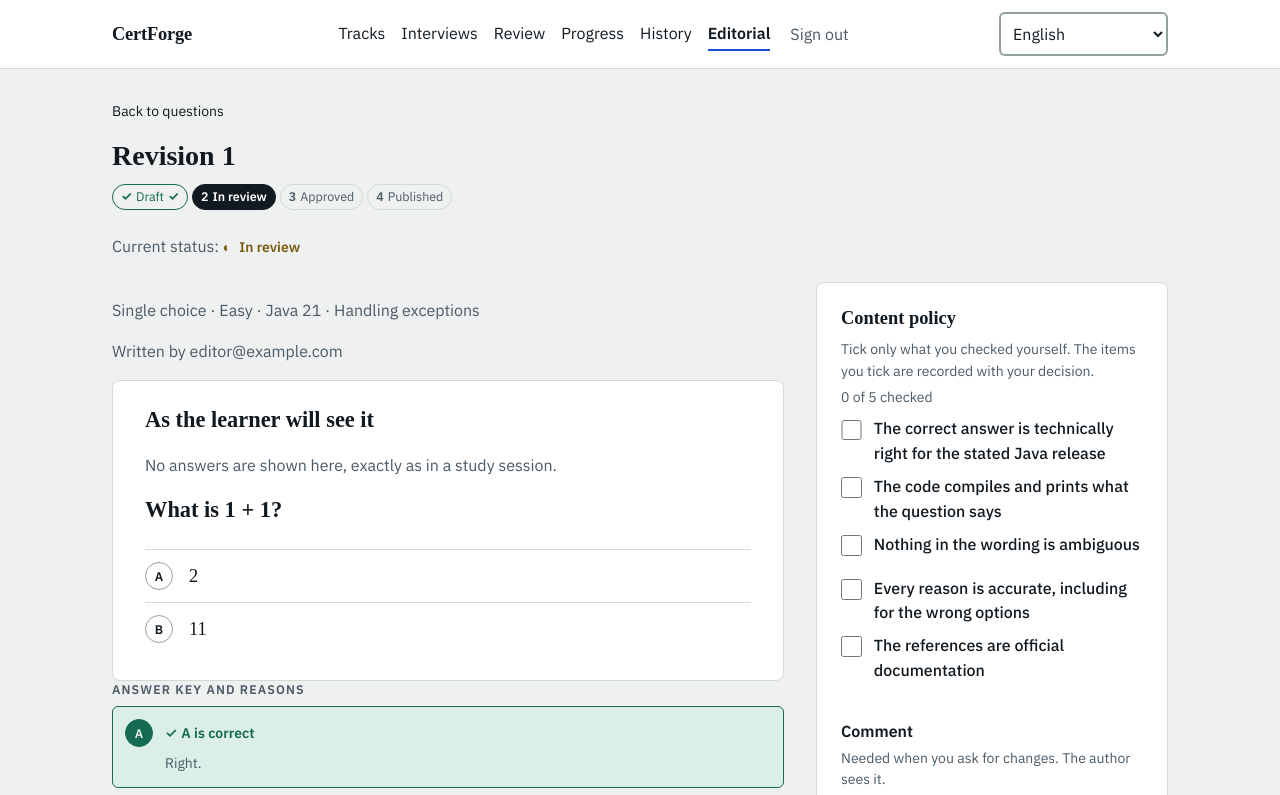
Test: reviewing › records exactly the items the reviewer ticked, with the decision
This screenshot has width=1280, height=795.
Click the checkbox labelled "technically right": (851, 430) [841,420,862,440]
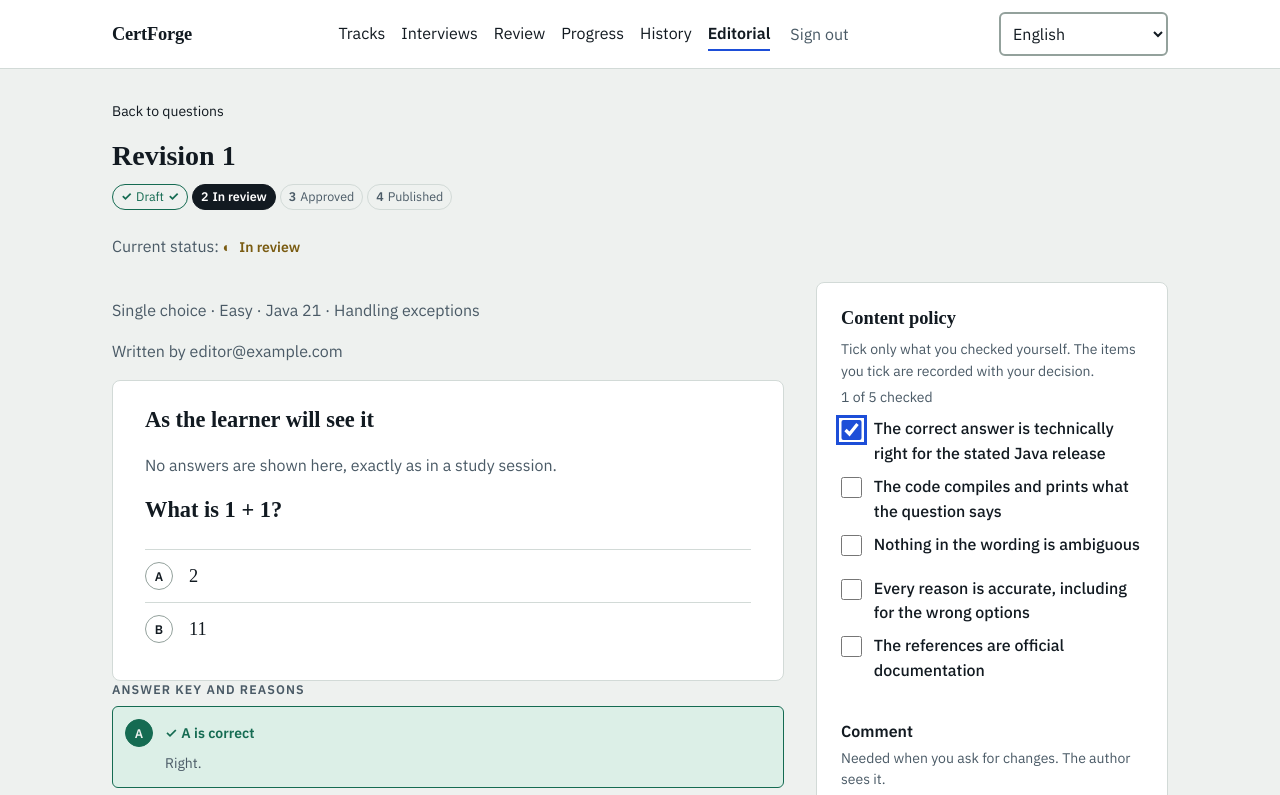
Result: the text "1 of 5 checked" is shown at [841,388,933,406]
Click the checkbox labelled "The code compiles and prints what the question says": (851, 488) [841,477,862,498]
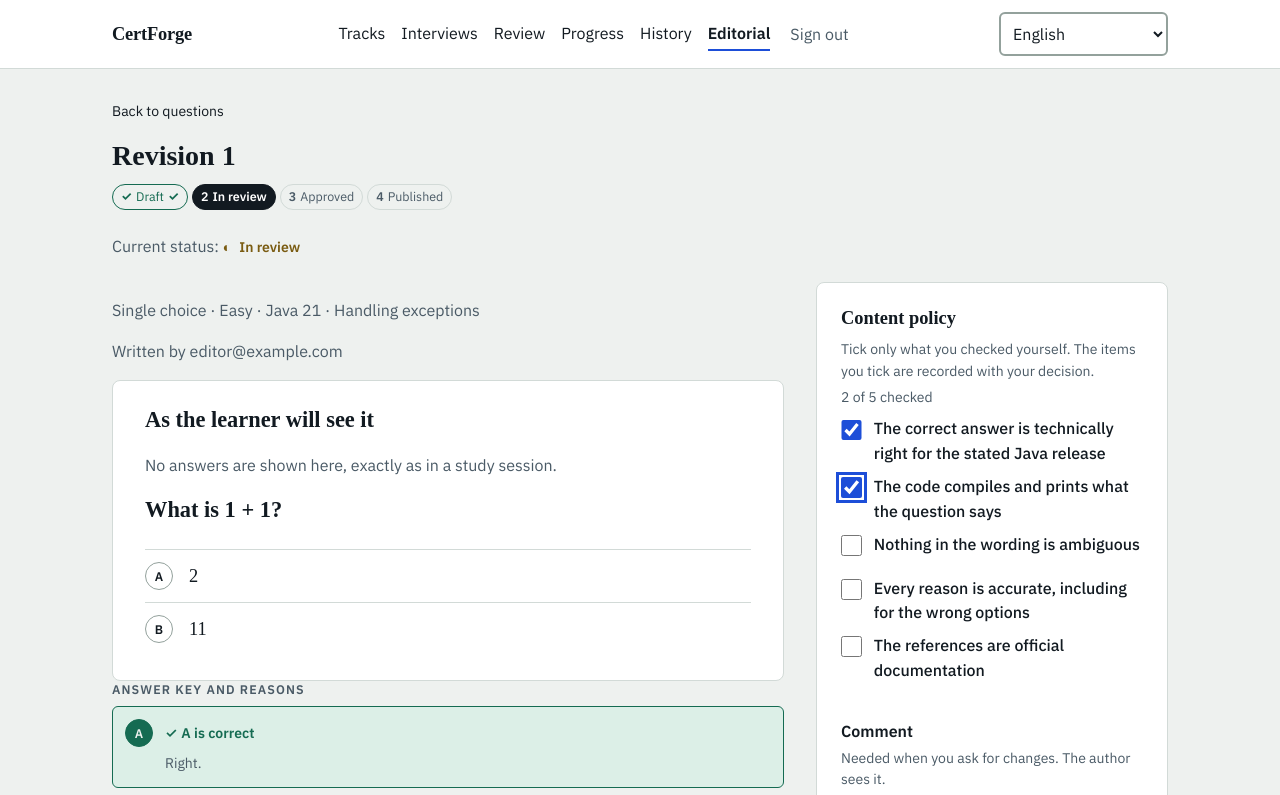
Click the checkbox labelled "The code compiles and prints what the question says": (851, 488) [841,477,862,498]
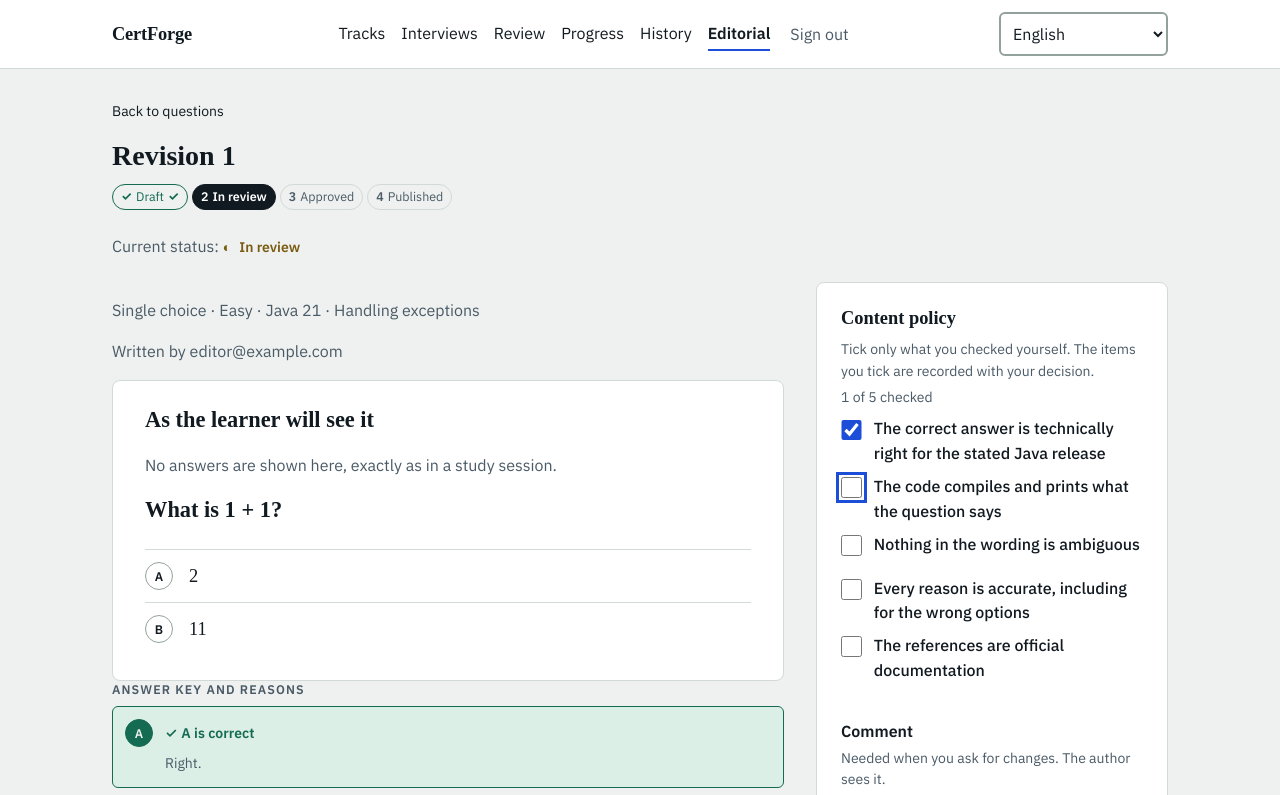
Click the checkbox labelled "The references are official documentation": (851, 647) [841,636,862,657]
(page scrolled)
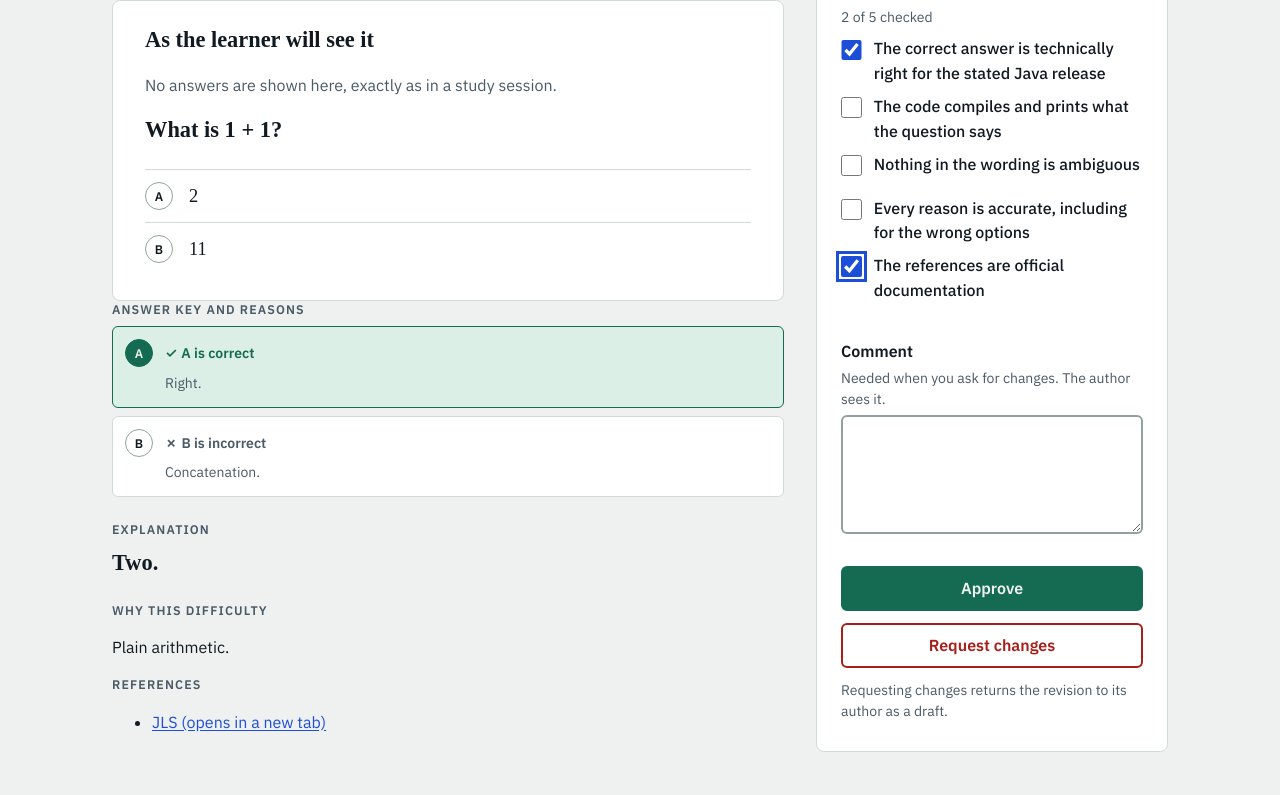
Click the button "Approve": (992, 588) [841,566,1143,611]
(page scrolled)
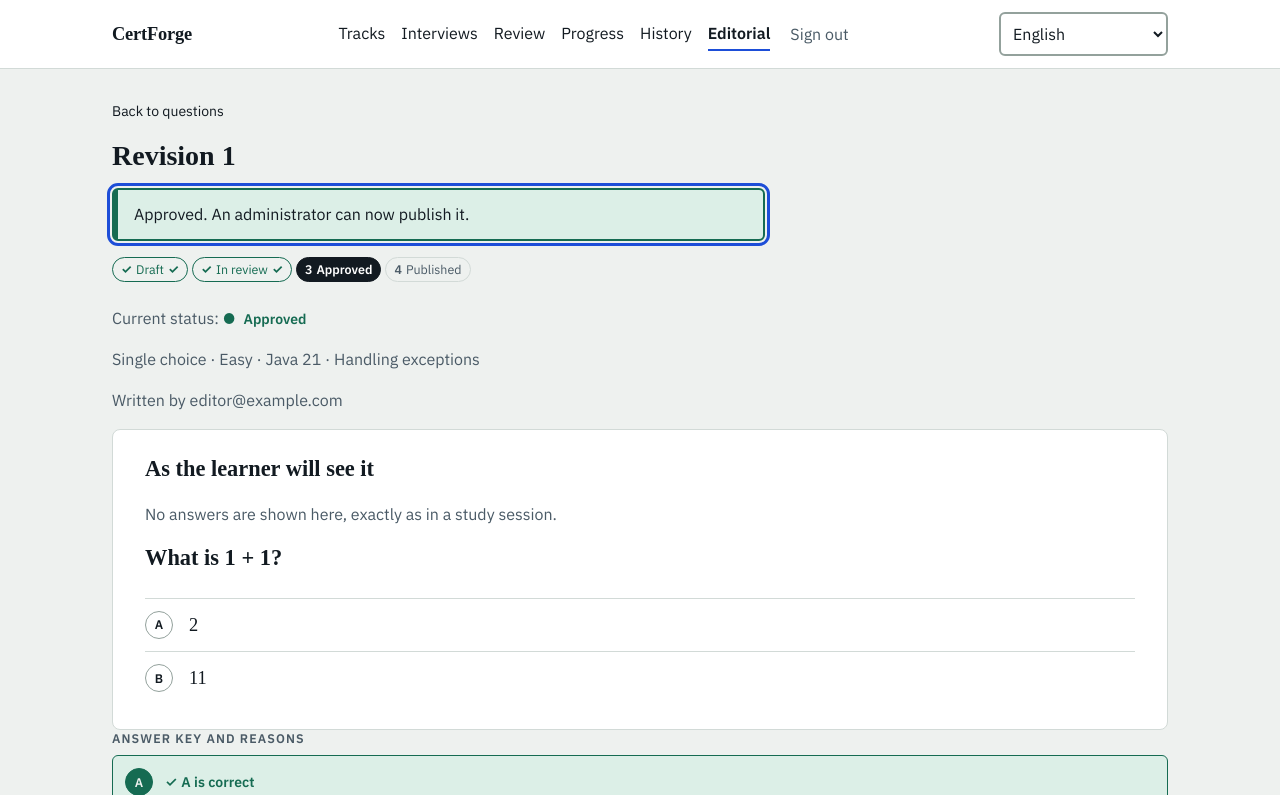
Result: the text "Approved. An administrator can now publish it." is shown at [112,188,765,241]
